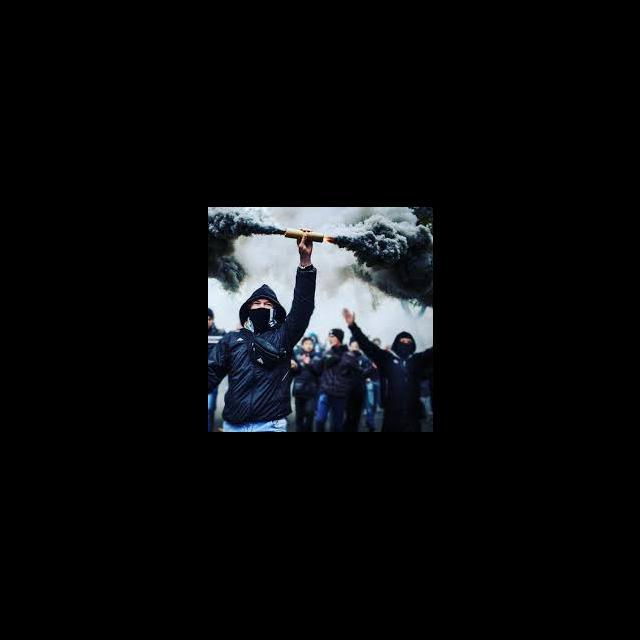Smoke: (346, 210, 432, 304), (208, 210, 280, 292)
